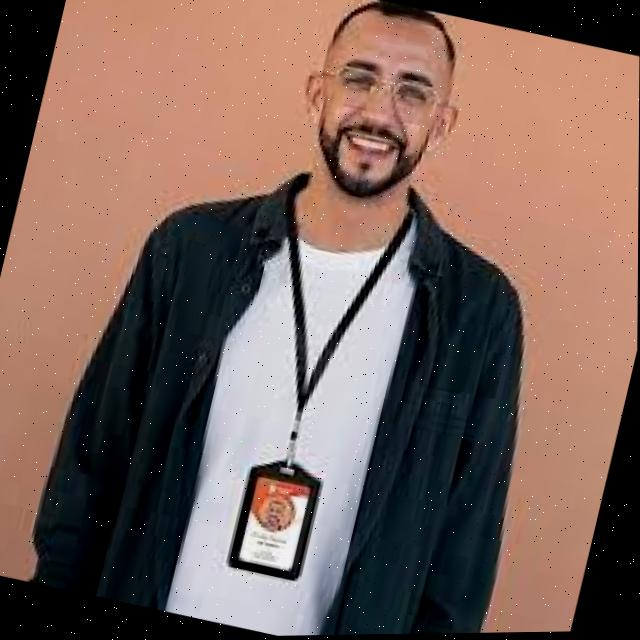id_card: (194, 195, 415, 600)
